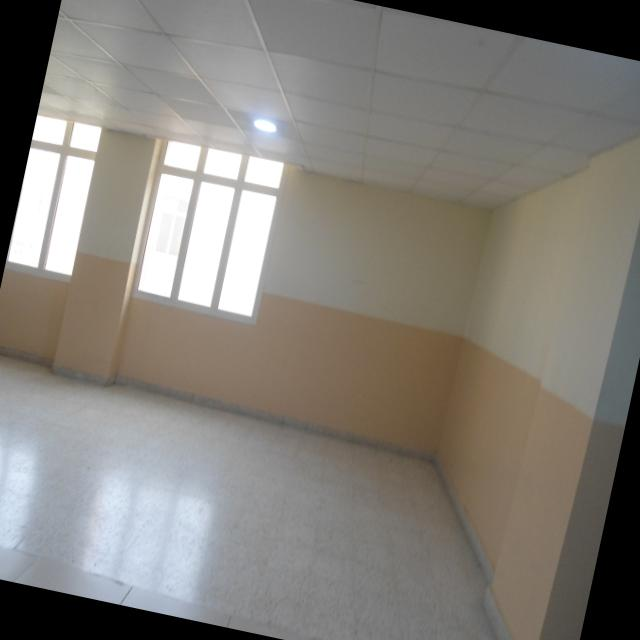wall: (400, 92, 640, 640), (108, 137, 498, 453), (53, 130, 160, 396), (0, 104, 106, 362)
window: (128, 143, 286, 318), (6, 105, 102, 275)
